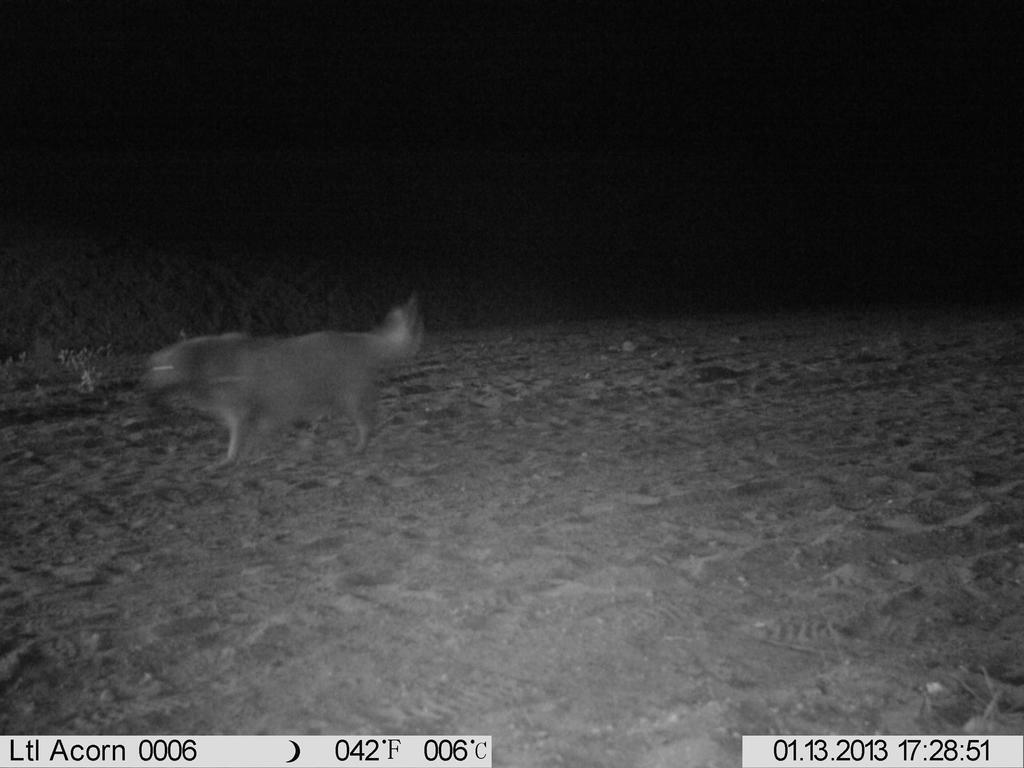dog: (113, 301, 445, 483)
